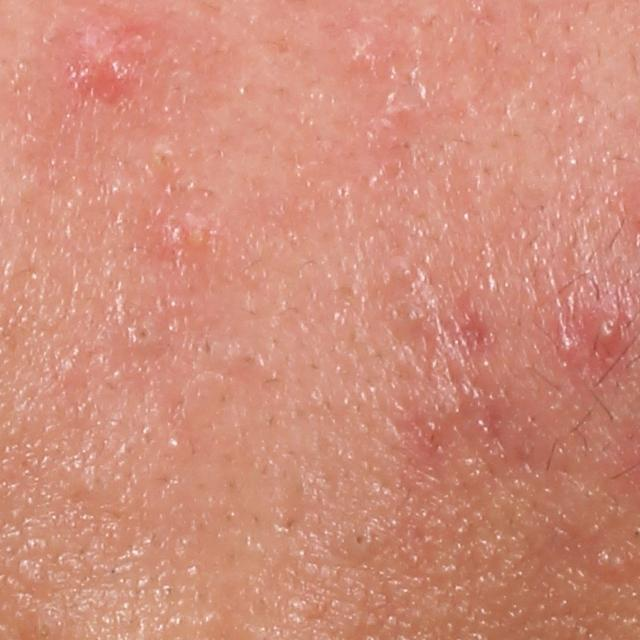comedo: (131, 320, 157, 346)
pustule: (591, 310, 625, 361)
